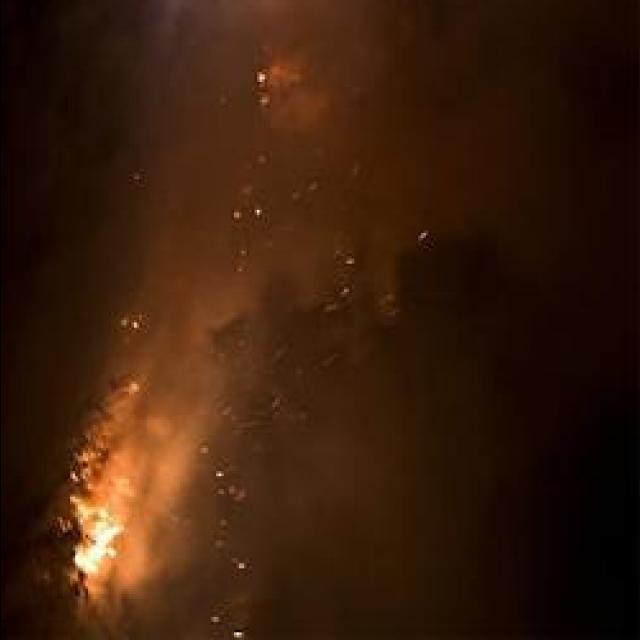fire: (69, 541, 109, 571), (93, 521, 115, 547)
smoke: (392, 1, 550, 242), (125, 0, 278, 63), (168, 256, 264, 336), (130, 442, 183, 519), (110, 532, 158, 591)
